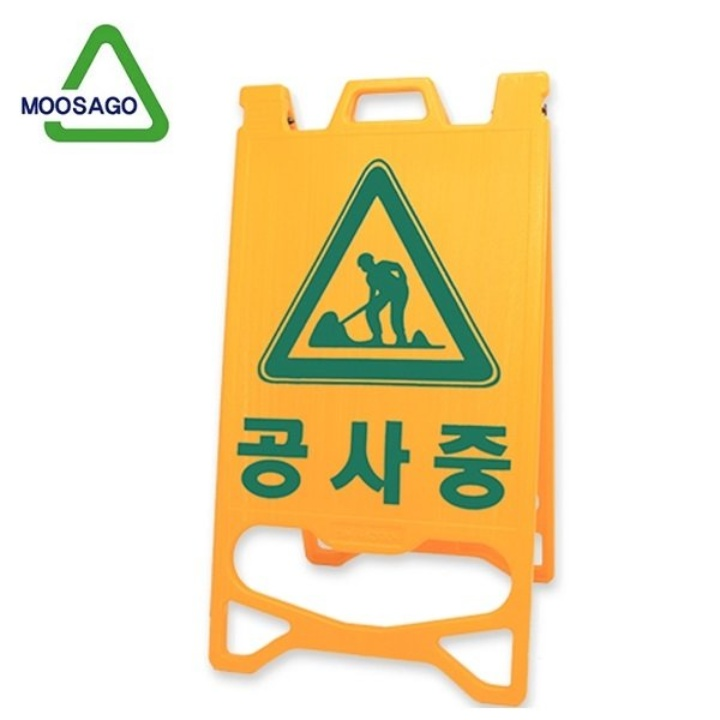const: (303, 244, 448, 353)
